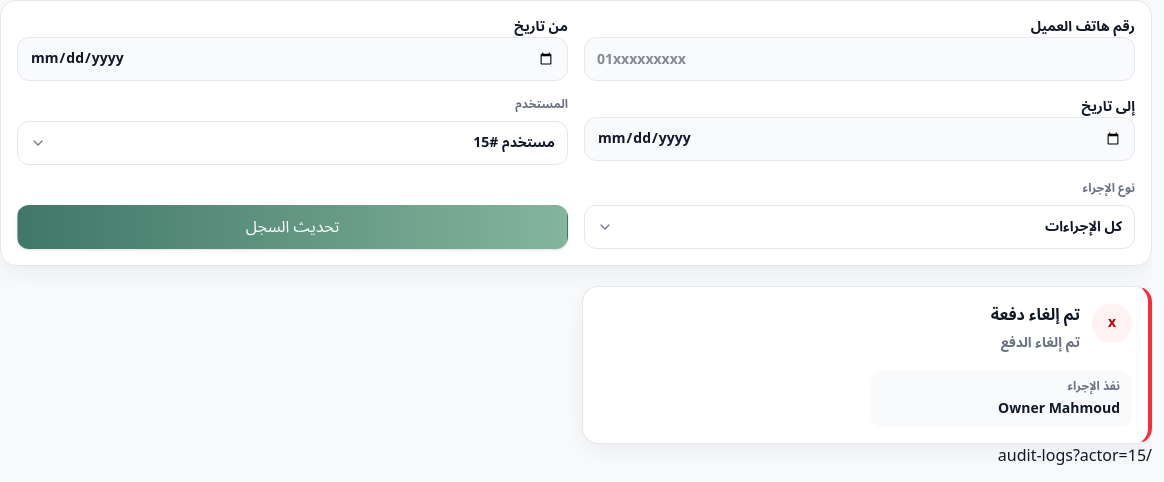
AuditLogsPage › preserves deep-linked unknown user ids with a fallback option
Click the button named "المستخدم" at (522, 142), box [17, 121, 568, 165]
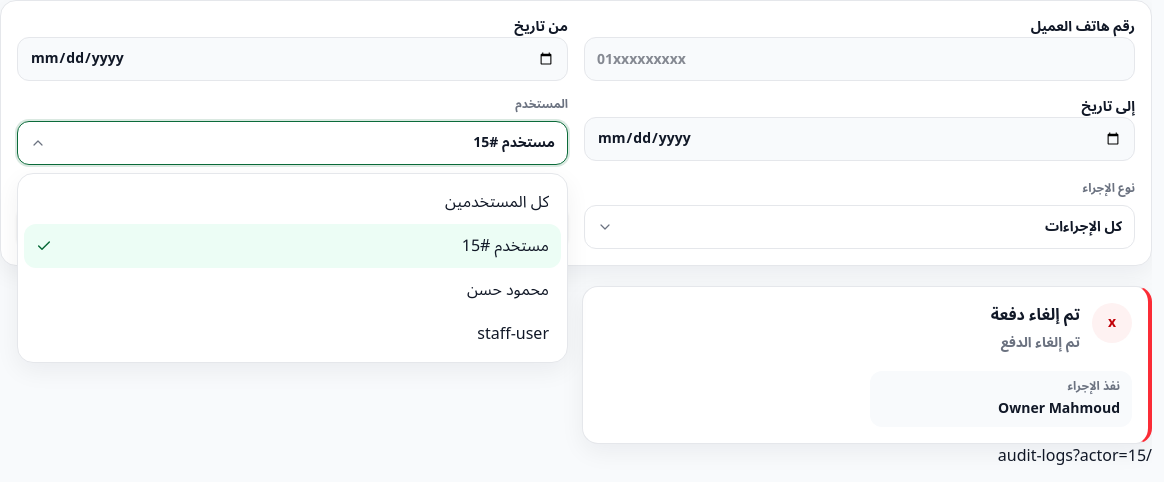
Expected: the option "مستخدم #15" holds "15", [24, 224, 561, 268]
